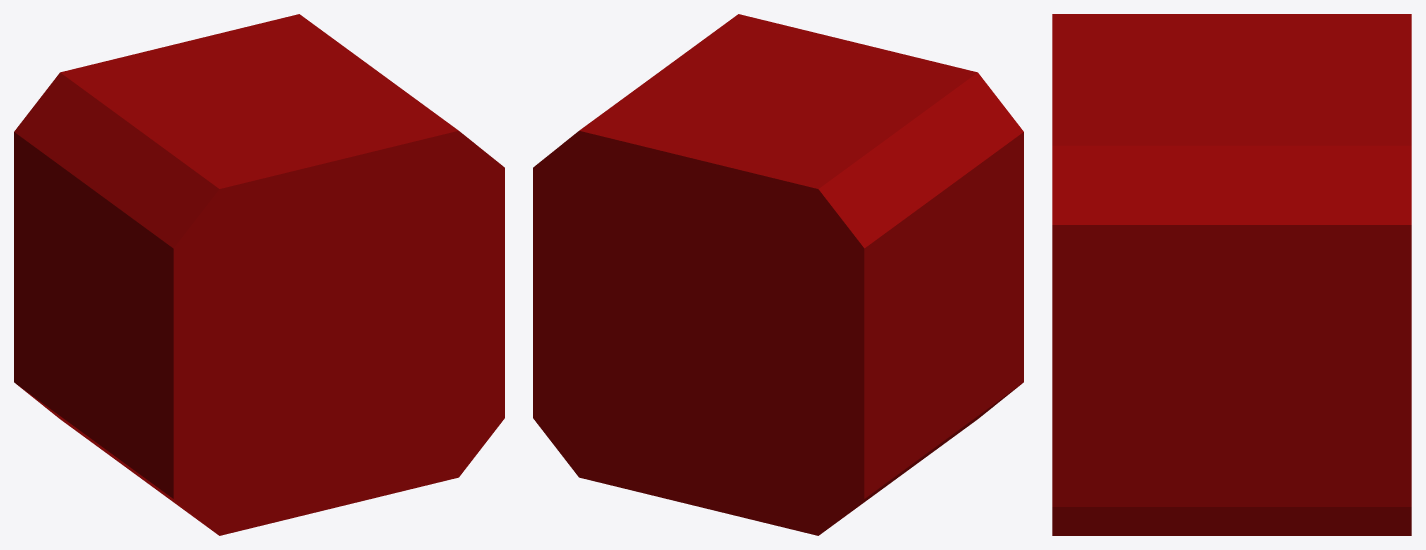
Rendered from Power.fbx.
3 views of the same model, side by side, from view 1: azimuth 30°, elevation 25°; view 2: azimuth 150°, elevation 25°; view 3: azimuth 270°, elevation 25° (orthographic). The views are drawn at different scales.
Visible parts, largest first — view 1: Power; view 2: Power; view 3: Power.
Boxes of the visible parts, bbox=[...] form: Power: bbox=[14, 14, 504, 535]; Power: bbox=[533, 14, 1023, 535]; Power: bbox=[1052, 14, 1411, 535].
Bounding box in the file's own units: 0.72 × 0.72 × 0.6.
